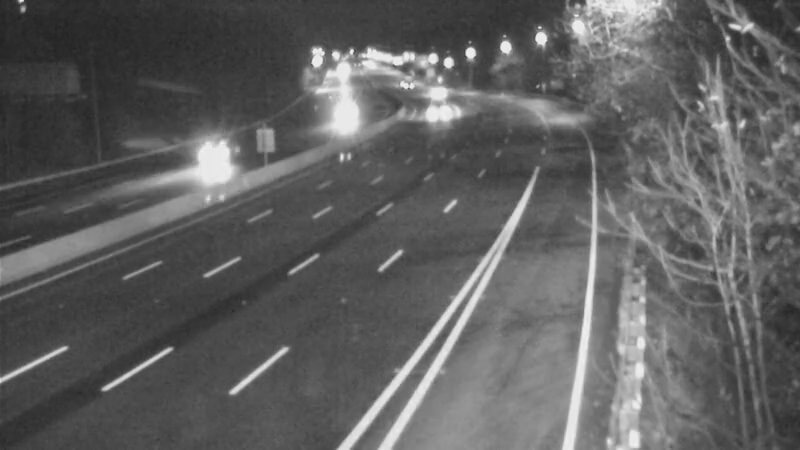vehicle: (173, 119, 253, 199), (380, 55, 430, 105), (413, 66, 463, 116), (411, 89, 461, 139), (323, 92, 373, 142)
